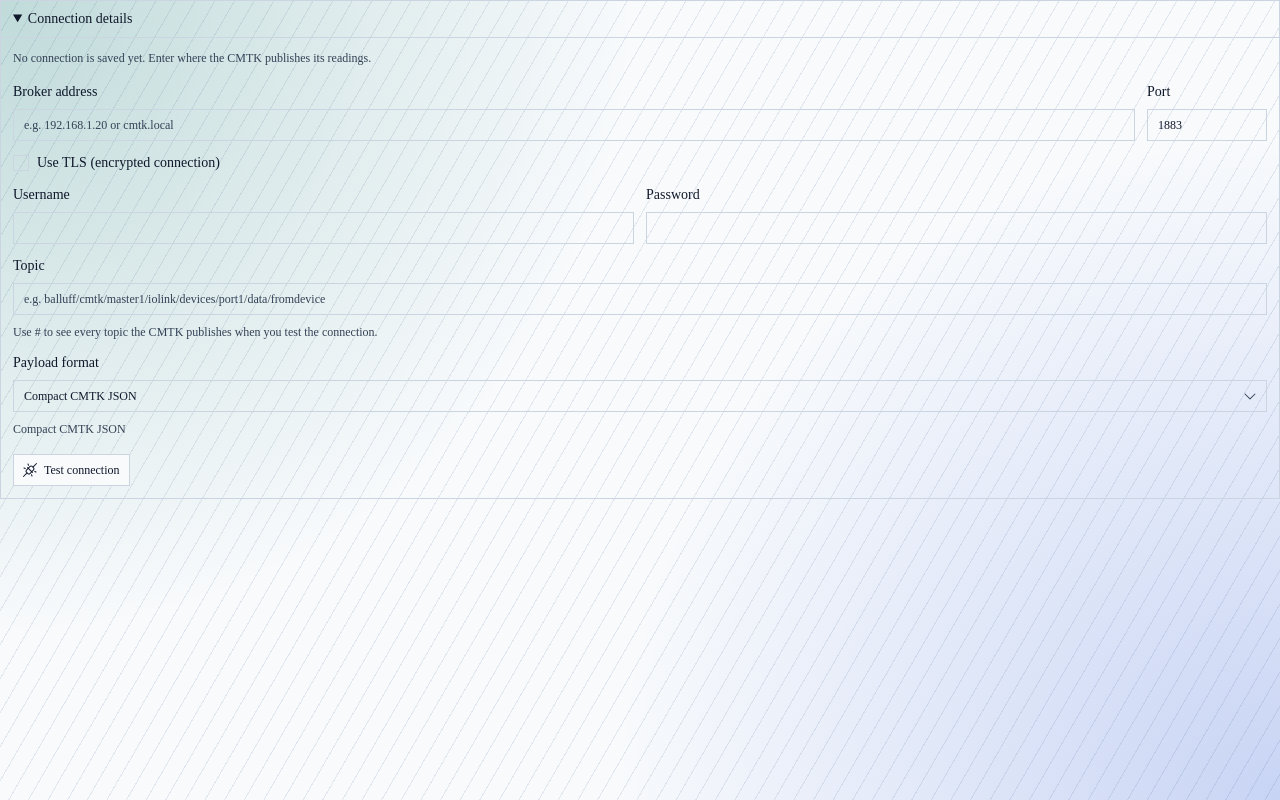
it: ConnectionDetailsSection › sends typed details when testing a changed connection and shows a notice when the test fails
Type "10.0.0.5" into the field labelled "Broker address" at (574, 125), box [13,109,1135,141]
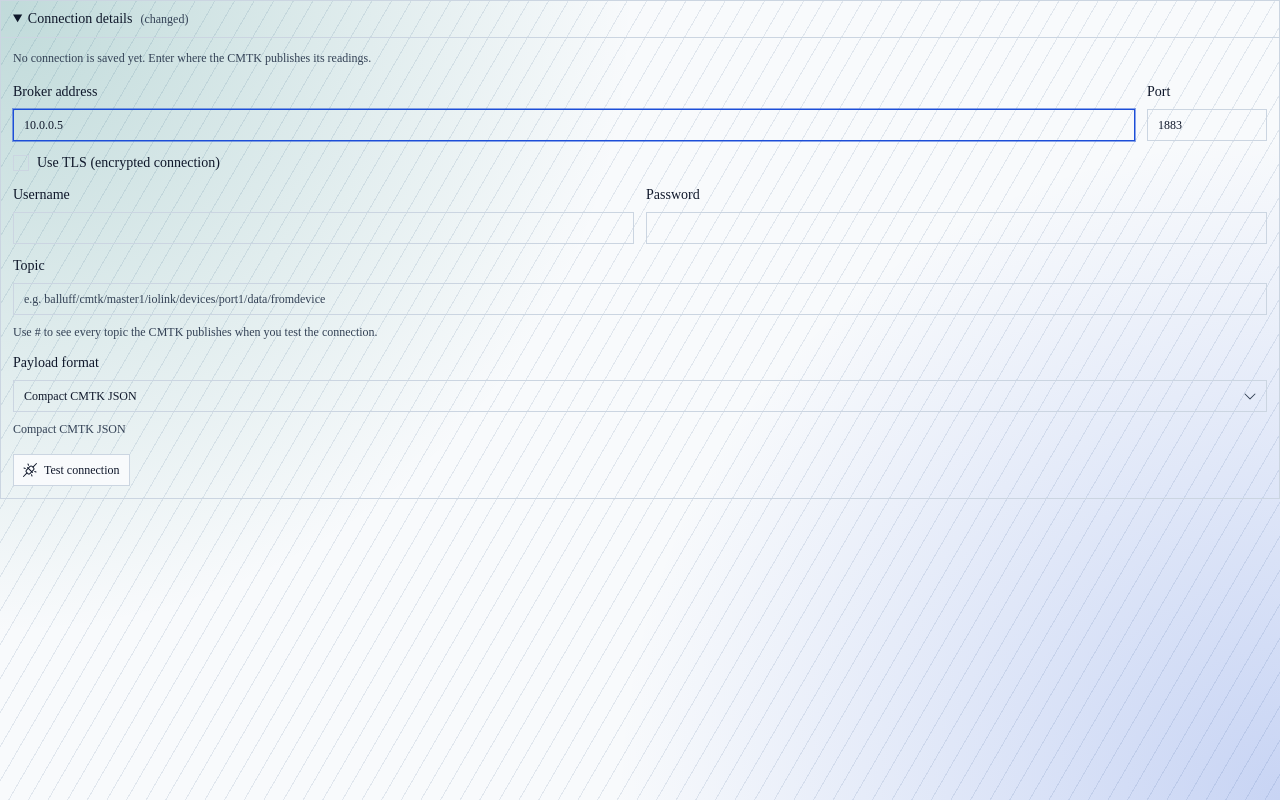
Type "#" into the field labelled "Topic" at (640, 299), box [13,283,1267,315]
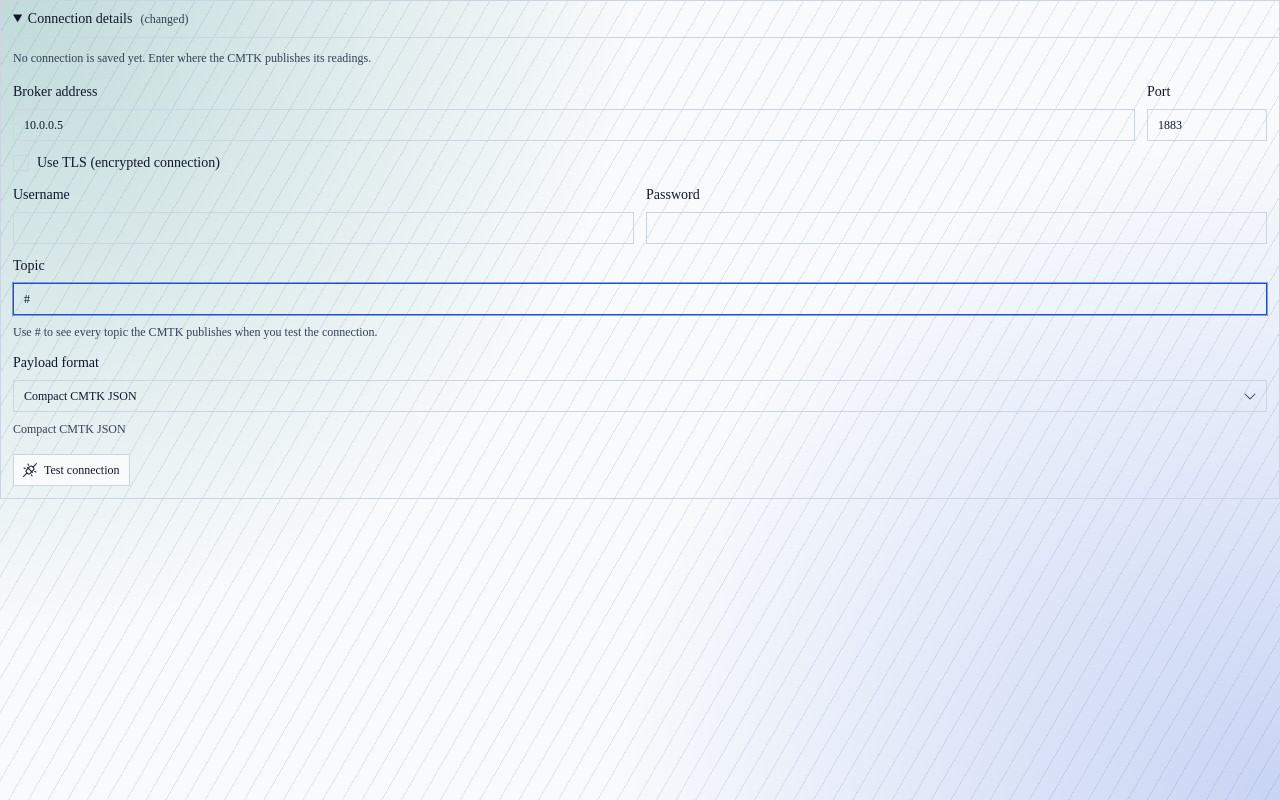
Click the button "Test connection" at (72, 470), box [13,454,130,486]
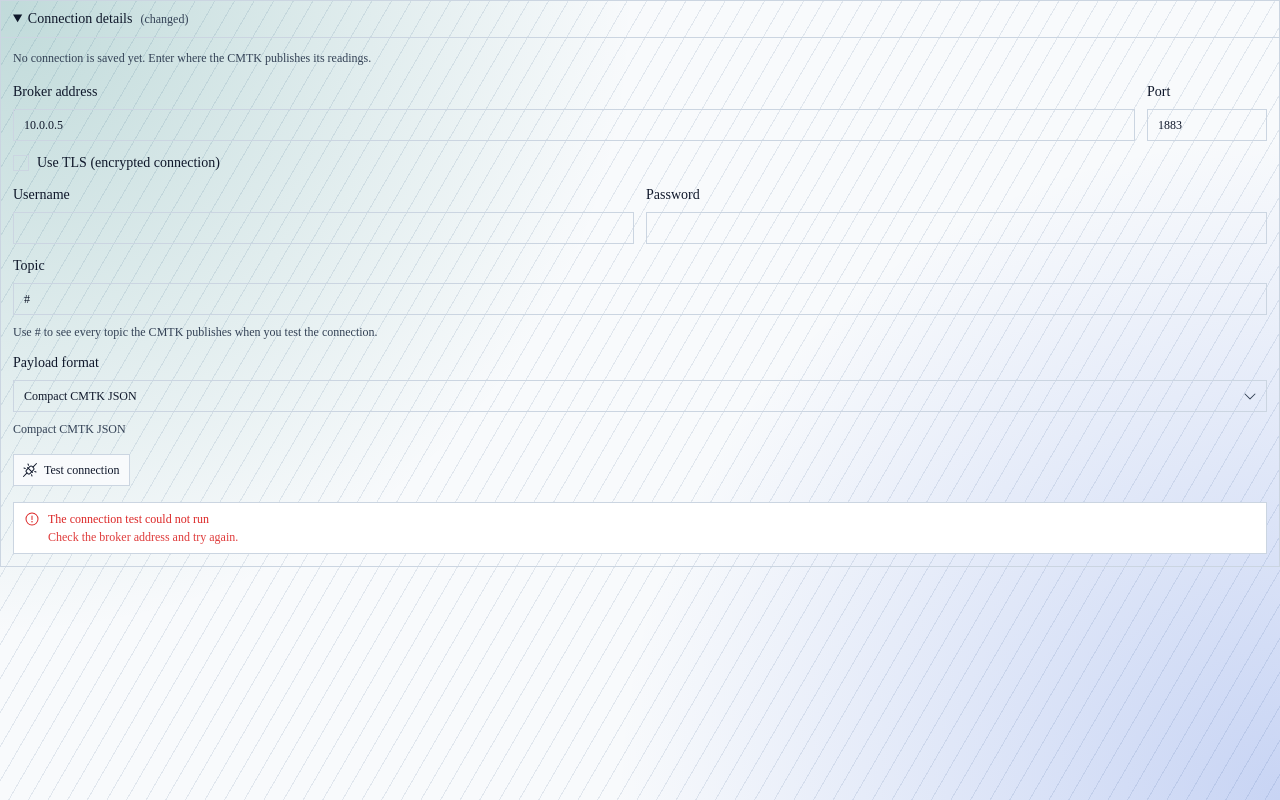
Now the text "The connection test could not run" is shown, box [48,512,209,526]
